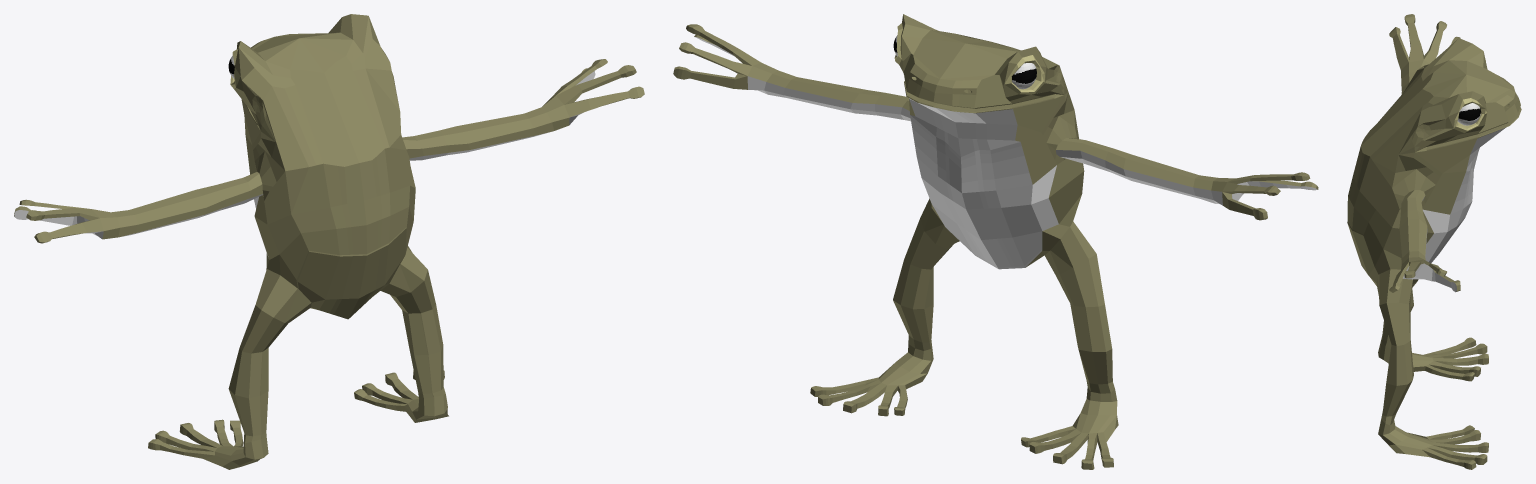
Rendered from bozo.fbx.
3 views of the same model, side by side, from view 1: azimuth 30°, elevation 25°; view 2: azimuth 150°, elevation 25°; view 3: azimuth 270°, elevation 25° (orthographic). The views are drawn at different scales.
Visible parts, largest first — view 1: Cube.002; view 2: Cube.002; view 3: Cube.002, Sphere.001.
Part boxes in pixels (x1,y1,x2,y2): Cube.002: [14, 14, 644, 469]; Cube.002: [673, 14, 1318, 469]; Cube.002: [1347, 14, 1521, 469]; Sphere.001: [1457, 103, 1480, 125].
Bounding box in the file's own units: 880 × 536 × 248.
